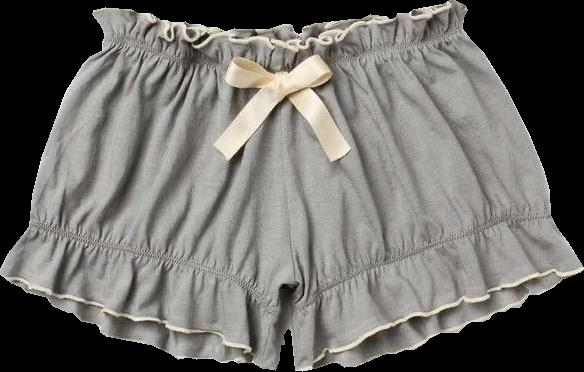Hemline: (293, 267, 583, 370), (0, 272, 278, 369)
Pantleg: (274, 0, 583, 370), (0, 7, 294, 369)
Waistline: (292, 212, 551, 313), (29, 220, 282, 315), (90, 0, 463, 49), (102, 27, 466, 70)
